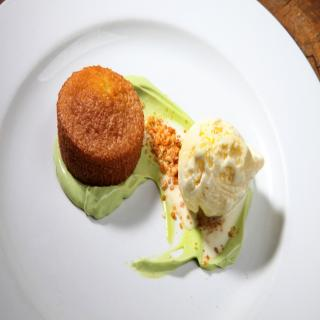Ice cream: (173, 114, 257, 232)
Muffin: (56, 56, 146, 194)
